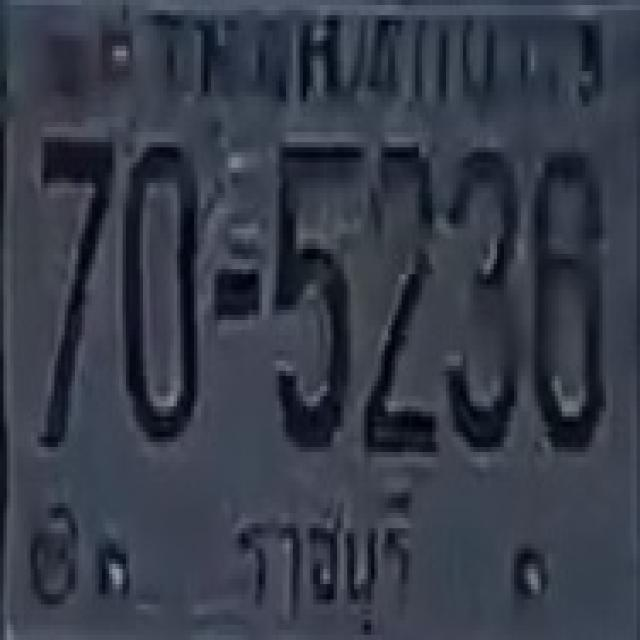0: (121, 137, 199, 437)
2: (364, 142, 436, 442), (366, 142, 434, 417)
3: (444, 142, 519, 447)
5: (272, 137, 361, 447)
6: (528, 144, 602, 450)
7: (38, 134, 112, 440), (41, 132, 112, 351), (41, 132, 112, 325)
RBR: (218, 483, 422, 638)
